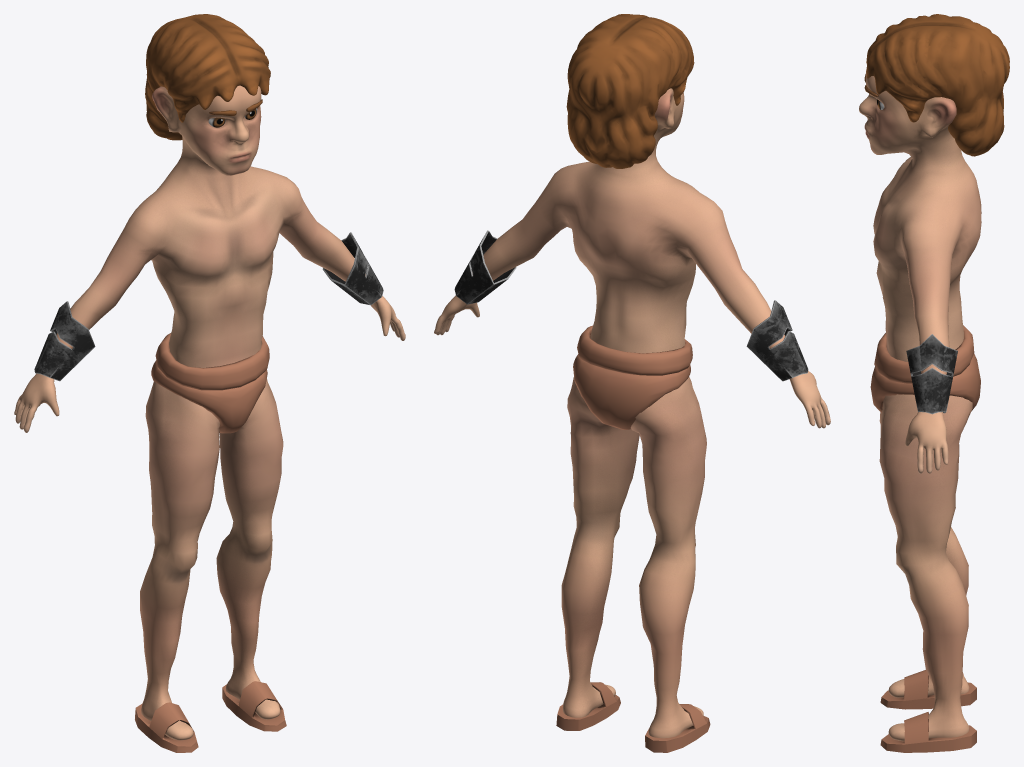
File: kole_unity.fbx
3 views of the same model, side by side, from view 1: azimuth 30°, elevation 25°; view 2: azimuth 150°, elevation 25°; view 3: azimuth 270°, elevation 25° (orthographic).
Parts seen in each view (by area): view 1: beden_retopo, sac_retopo, kol_retopo, terlik_retopo, Retopo_Plane.001, Retopo_Plane.002; view 2: beden_retopo, sac_retopo, kol_retopo, Retopo_Plane.002, Retopo_Plane.001, terlik_retopo; view 3: beden_retopo, sac_retopo, terlik_retopo, kol_retopo, Retopo_Plane.002, Retopo_Plane.001.
Boxes of the visible parts, x1,y1,x2,y2 form: beden_retopo: (14,85,405,740); sac_retopo: (145,14,270,140); kol_retopo: (34,232,383,381); terlik_retopo: (135,681,286,752); Retopo_Plane.001: (155,333,269,390); Retopo_Plane.002: (151,360,267,433); beden_retopo: (434,88,830,738); sac_retopo: (566,14,694,168); kol_retopo: (454,230,808,381); Retopo_Plane.002: (573,354,690,429); Retopo_Plane.001: (577,325,692,375); terlik_retopo: (556,682,710,752); beden_retopo: (859,71,981,741); sac_retopo: (866,14,1009,156); terlik_retopo: (880,670,976,752); kol_retopo: (906,334,957,414); Retopo_Plane.002: (870,353,980,413); Retopo_Plane.001: (874,325,974,383).
Bounding box in the file's own units: 251 × 438 × 85.43.
